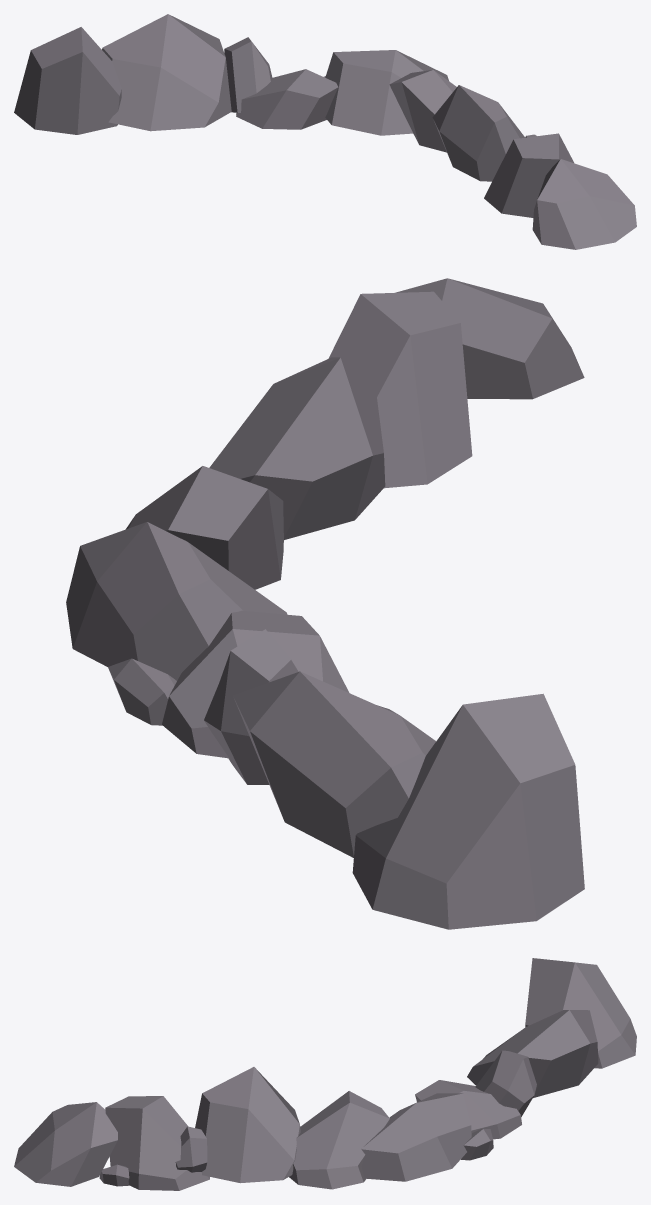
Rendered from RockyEdge.fbx.
3 renders of one model, top to bottom at view 1: azimuth 30°, elevation 25°; view 2: azimuth 150°, elevation 25°; view 3: azimuth 270°, elevation 25°, orthographic. The views are drawn at different scales.
Parts seen in each view (by area): view 1: RockyEdge; view 2: RockyEdge; view 3: RockyEdge.
Part boxes in pixels (x1=…): RockyEdge: x1=14, y1=14, x2=636, y2=249; RockyEdge: x1=66, y1=278, x2=584, y2=929; RockyEdge: x1=14, y1=958, x2=636, y2=1190.
Bounding box in the file's own units: 0.5899 × 0.1586 × 0.8924.
